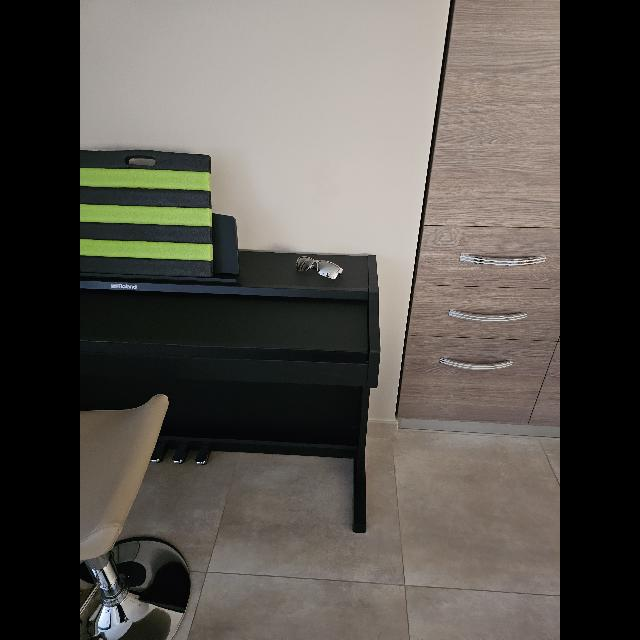Sunglasses: (296, 256, 342, 280)
